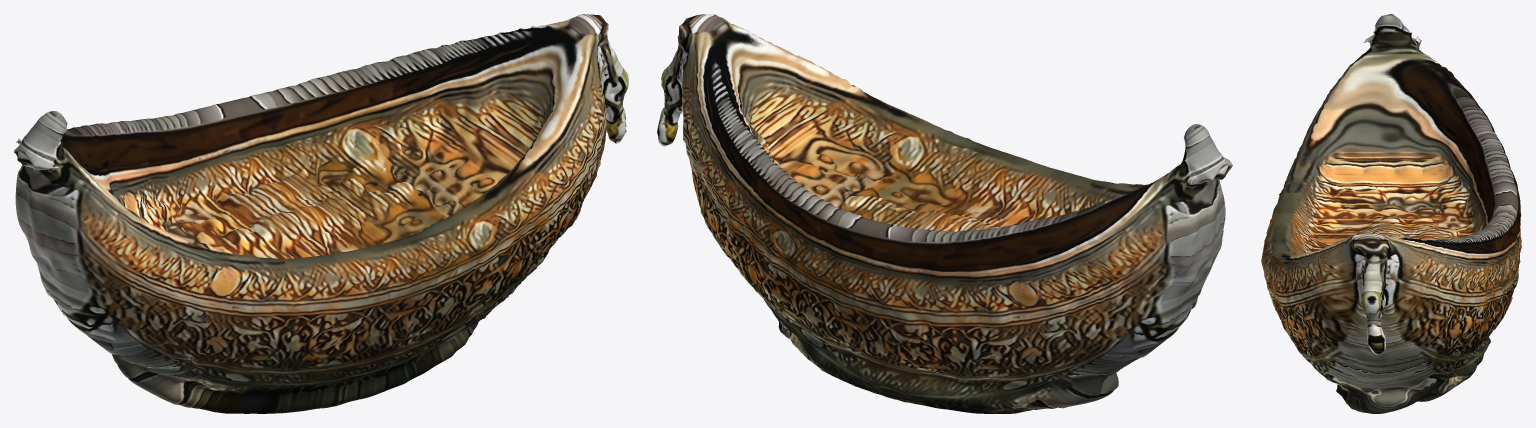
File: kfl-2228.glb
3 views of the same model, side by side, from view 1: azimuth 30°, elevation 25°; view 2: azimuth 150°, elevation 25°; view 3: azimuth 270°, elevation 25° (orthographic). The views are drawn at different scales.
Visible parts, largest first — view 1: kfl-2228; view 2: kfl-2228; view 3: kfl-2228.
Part boxes in pixels (x1,y1,x2,y2): kfl-2228: [14, 14, 628, 413]; kfl-2228: [657, 14, 1232, 413]; kfl-2228: [1261, 14, 1521, 413].
Size of the model in its own units: 0.9898 by 0.5341 by 0.4761.
1 material, 1 textured.
